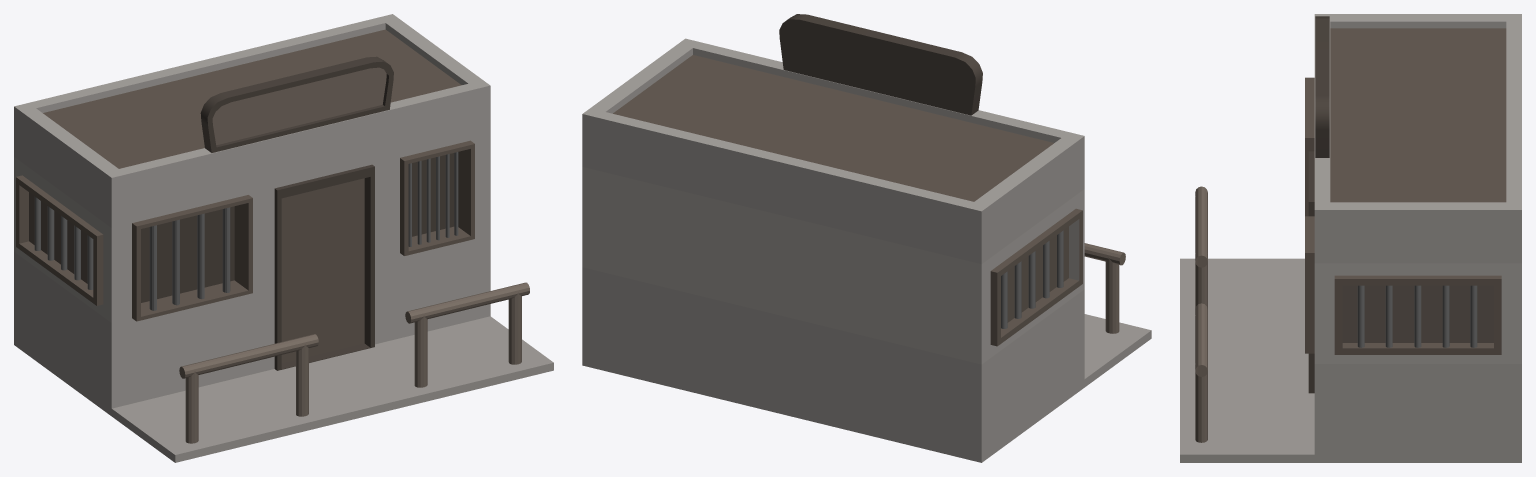
The model's file is casita5.fbx.
3 renders of one model, left to right at view 1: azimuth 30°, elevation 25°; view 2: azimuth 150°, elevation 25°; view 3: azimuth 270°, elevation 25°, orthographic. The views are drawn at different scales.
Visible parts, largest first — view 1: pCube4; view 2: pCube4; view 3: pCube4.
Part boxes in pixels (box(x1,y1,x2,y2)): pCube4: box(14, 14, 553, 462); pCube4: box(582, 14, 1151, 462); pCube4: box(1180, 14, 1521, 462).
Bounding box in the file's own units: 59.8 × 42.28 × 42.6.
